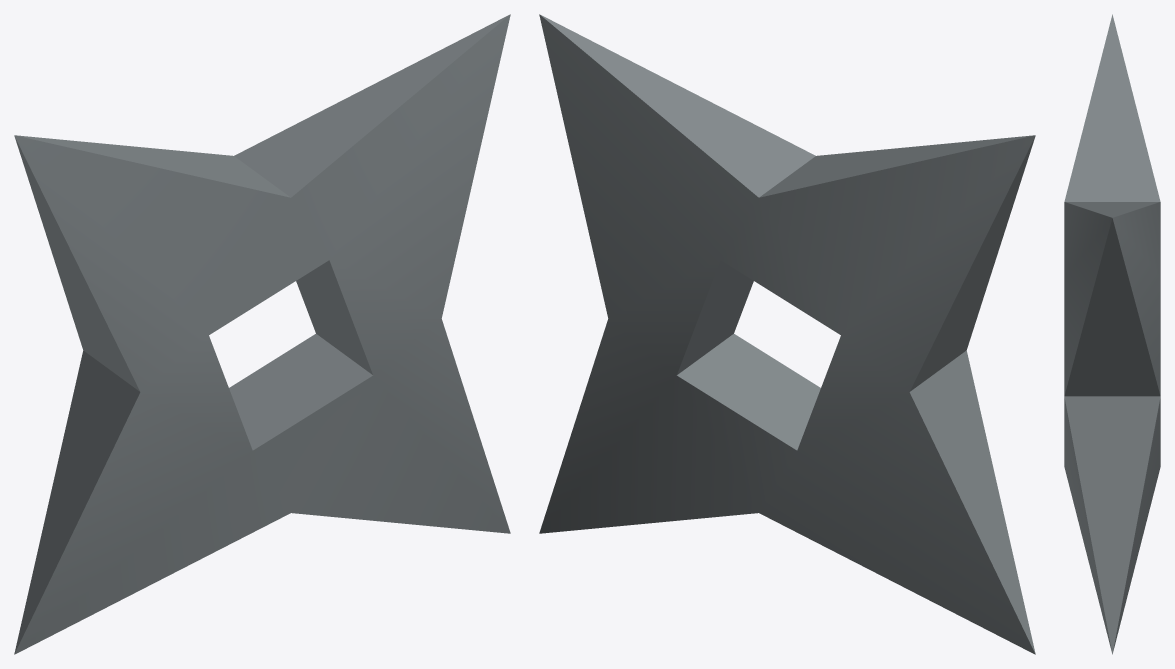
The model's file is Shuriken 01.FBX.
The picture shows the model from 3 angles, left to right: view 1: azimuth 30°, elevation 25°; view 2: azimuth 150°, elevation 25°; view 3: azimuth 270°, elevation 25°; orthographic projection. The views are drawn at different scales.
Visible parts, largest first — view 1: Shuriken 01; view 2: Shuriken 01; view 3: Shuriken 01.
Boxes of the visible parts, bbox=[...] form: Shuriken 01: bbox=[14, 14, 510, 654]; Shuriken 01: bbox=[539, 14, 1035, 654]; Shuriken 01: bbox=[1064, 14, 1160, 654].
Size of the model in its own units: 20.2 by 20.2 by 4.03.
1 material, 1 textured.
